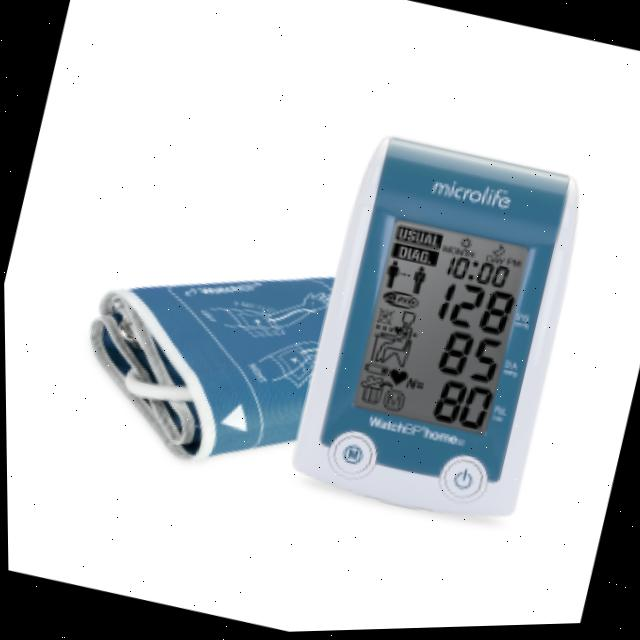dia: (432, 329, 506, 392)
pul: (426, 378, 499, 440)
ssd: (351, 220, 530, 439)
sys: (431, 278, 519, 344)
